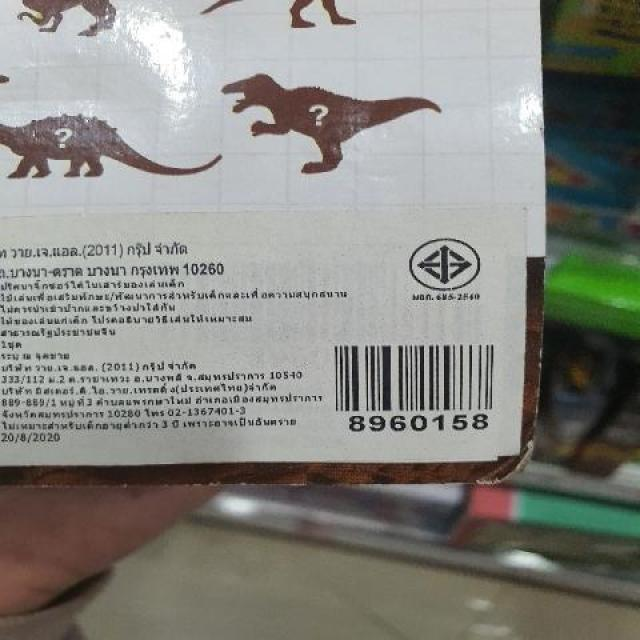Barcode: (325, 337, 507, 431)
